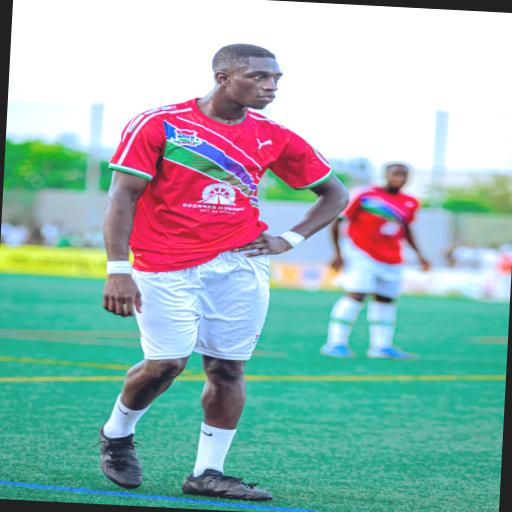shoe: (182, 469, 271, 501), (98, 427, 141, 489), (366, 347, 416, 360), (319, 344, 354, 358)
